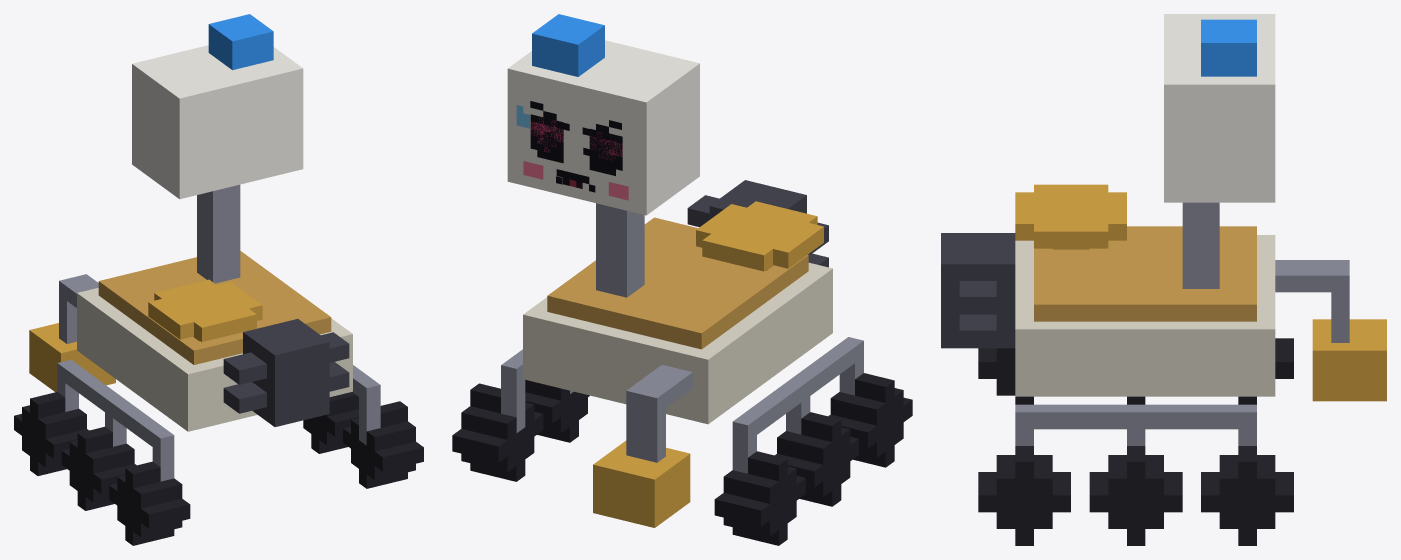
The model's file is curiosity.obj.
3 renders of one model, left to right at view 1: azimuth 30°, elevation 25°; view 2: azimuth 150°, elevation 25°; view 3: azimuth 270°, elevation 25°, orthographic. The views are drawn at different scales.
Visible parts, largest first — view 1: cabeza, ruedas, chasis, generador, cubierta, suspension, antena, mastil, cabeza_lente, torreta, brazo; view 2: ruedas, cabeza, chasis, cubierta, suspension, antena, torreta, brazo, mastil, cabeza_lente, generador, cara_feliz_ojos (+5 smaller); view 3: chasis, ruedas, cabeza, cubierta, generador, suspension, antena, torreta, brazo, mastil, cabeza_lente.
Boxes of the visible parts, x1,y1,x2,y2 form: cabeza: (132,45,303,199); ruedas: (14,392,423,545); chasis: (77,288,352,431); generador: (223,319,349,426); cubierta: (98,251,331,364); suspension: (57,360,380,481); antena: (148,279,262,341); mastil: (197,184,240,283); cabeza_lente: (208,14,273,70); torreta: (29,323,115,392); brazo: (59,274,98,343); ruedas: (452,373,912,545); cabeza: (507,40,699,215); chasis: (523,262,832,424); cubierta: (547,217,808,349); suspension: (501,337,863,473); antena: (696,201,823,271); torreta: (593,440,690,527); brazo: (626,364,692,462); mastil: (596,203,644,297); cabeza_lente: (532,14,604,76); generador: (687,180,828,267); cara_feliz_ojos: (537,116,615,175); chasis: (1015,235,1275,396); ruedas: (978,338,1293,545); cabeza: (1164,14,1275,202); cubierta: (1034,226,1256,321); generador: (941,233,1015,348); suspension: (1015,404,1256,445); antena: (1015,184,1126,249); torreta: (1312,319,1386,401); brazo: (1275,260,1349,342); mastil: (1182,202,1219,288); cabeza_lente: (1201,19,1256,76).
Size of the model in its own units: 0.8 by 1.12 by 0.96.
